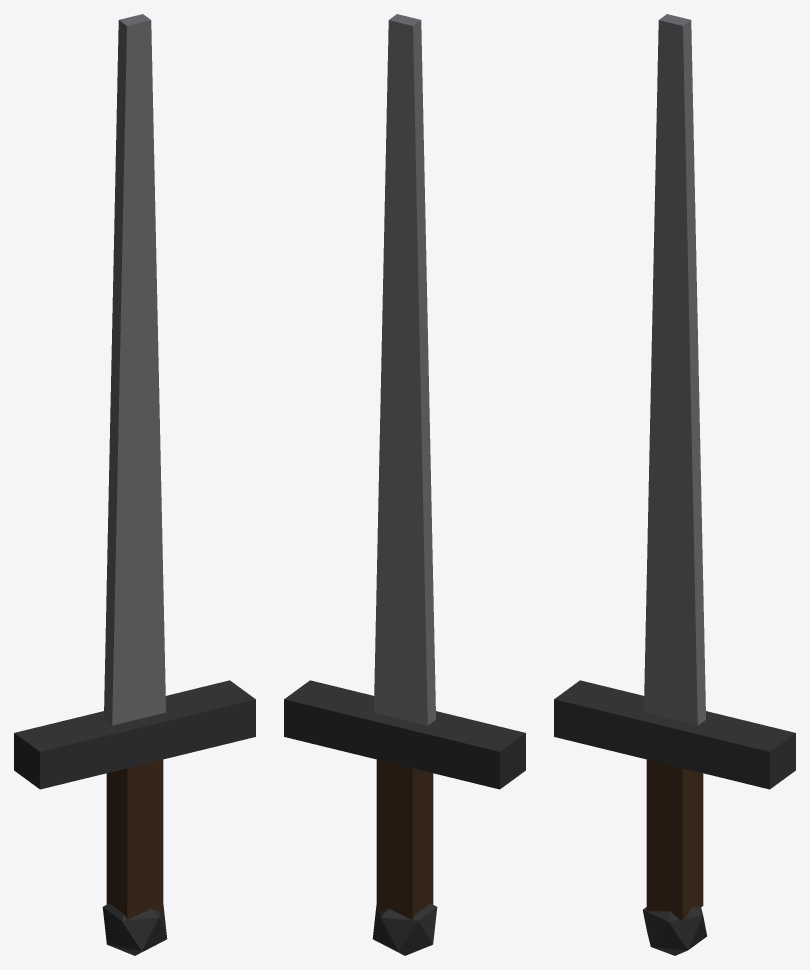
File: arming_sword.glb
3 renders of one model, left to right at view 1: azimuth 30°, elevation 25°; view 2: azimuth 150°, elevation 25°; view 3: azimuth 330°, elevation 25°, orthographic.
Parts seen in each view (by area): view 1: ArmingSword; view 2: ArmingSword; view 3: ArmingSword.
Part boxes in pixels (x1,y1,x2,y2): ArmingSword: [14, 14, 255, 955]; ArmingSword: [284, 14, 525, 955]; ArmingSword: [554, 14, 795, 955].
Bounding box in the file's own units: 0.24 × 0.995 × 0.0595.
